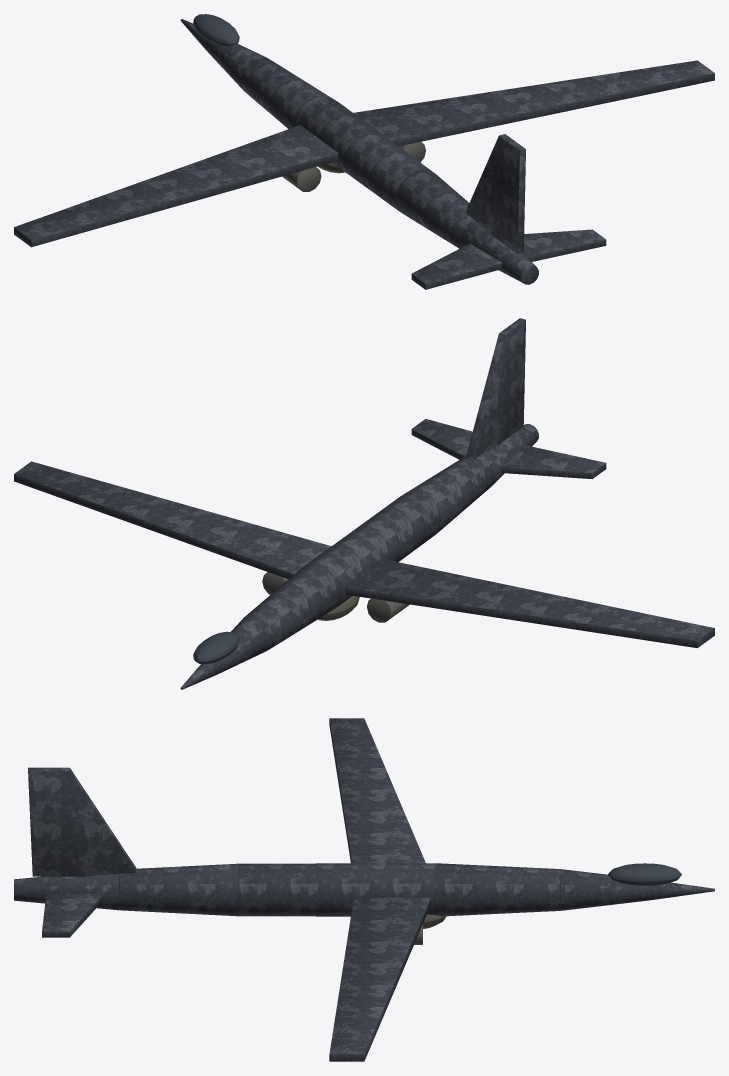
File: isr_e1_us_recon_LOD0.glb
The picture shows the model from 3 angles, top to bottom: view 1: azimuth 30°, elevation 25°; view 2: azimuth 150°, elevation 25°; view 3: azimuth 270°, elevation 25°; orthographic projection.
Visible parts, largest first — view 1: isr_e1_us_recon_LOD0_body, isr_e1_us_recon_LOD0_glass, isr_e1_us_recon_LOD0_gun; view 2: isr_e1_us_recon_LOD0_body, isr_e1_us_recon_LOD0_glass, isr_e1_us_recon_LOD0_gun; view 3: isr_e1_us_recon_LOD0_body, isr_e1_us_recon_LOD0_glass.
Part boxes in pixels (x1,y1,x2,y2): isr_e1_us_recon_LOD0_body: [14, 19, 714, 289]; isr_e1_us_recon_LOD0_glass: [193, 14, 239, 46]; isr_e1_us_recon_LOD0_gun: [282, 142, 425, 191]; isr_e1_us_recon_LOD0_body: [14, 318, 714, 689]; isr_e1_us_recon_LOD0_glass: [193, 631, 239, 664]; isr_e1_us_recon_LOD0_gun: [262, 572, 409, 622]; isr_e1_us_recon_LOD0_body: [14, 718, 714, 1061]; isr_e1_us_recon_LOD0_glass: [608, 863, 681, 885].
Bounding box in the file's own units: 34 × 7.45 × 30.
Materials: 4 (1 with a texture image).
